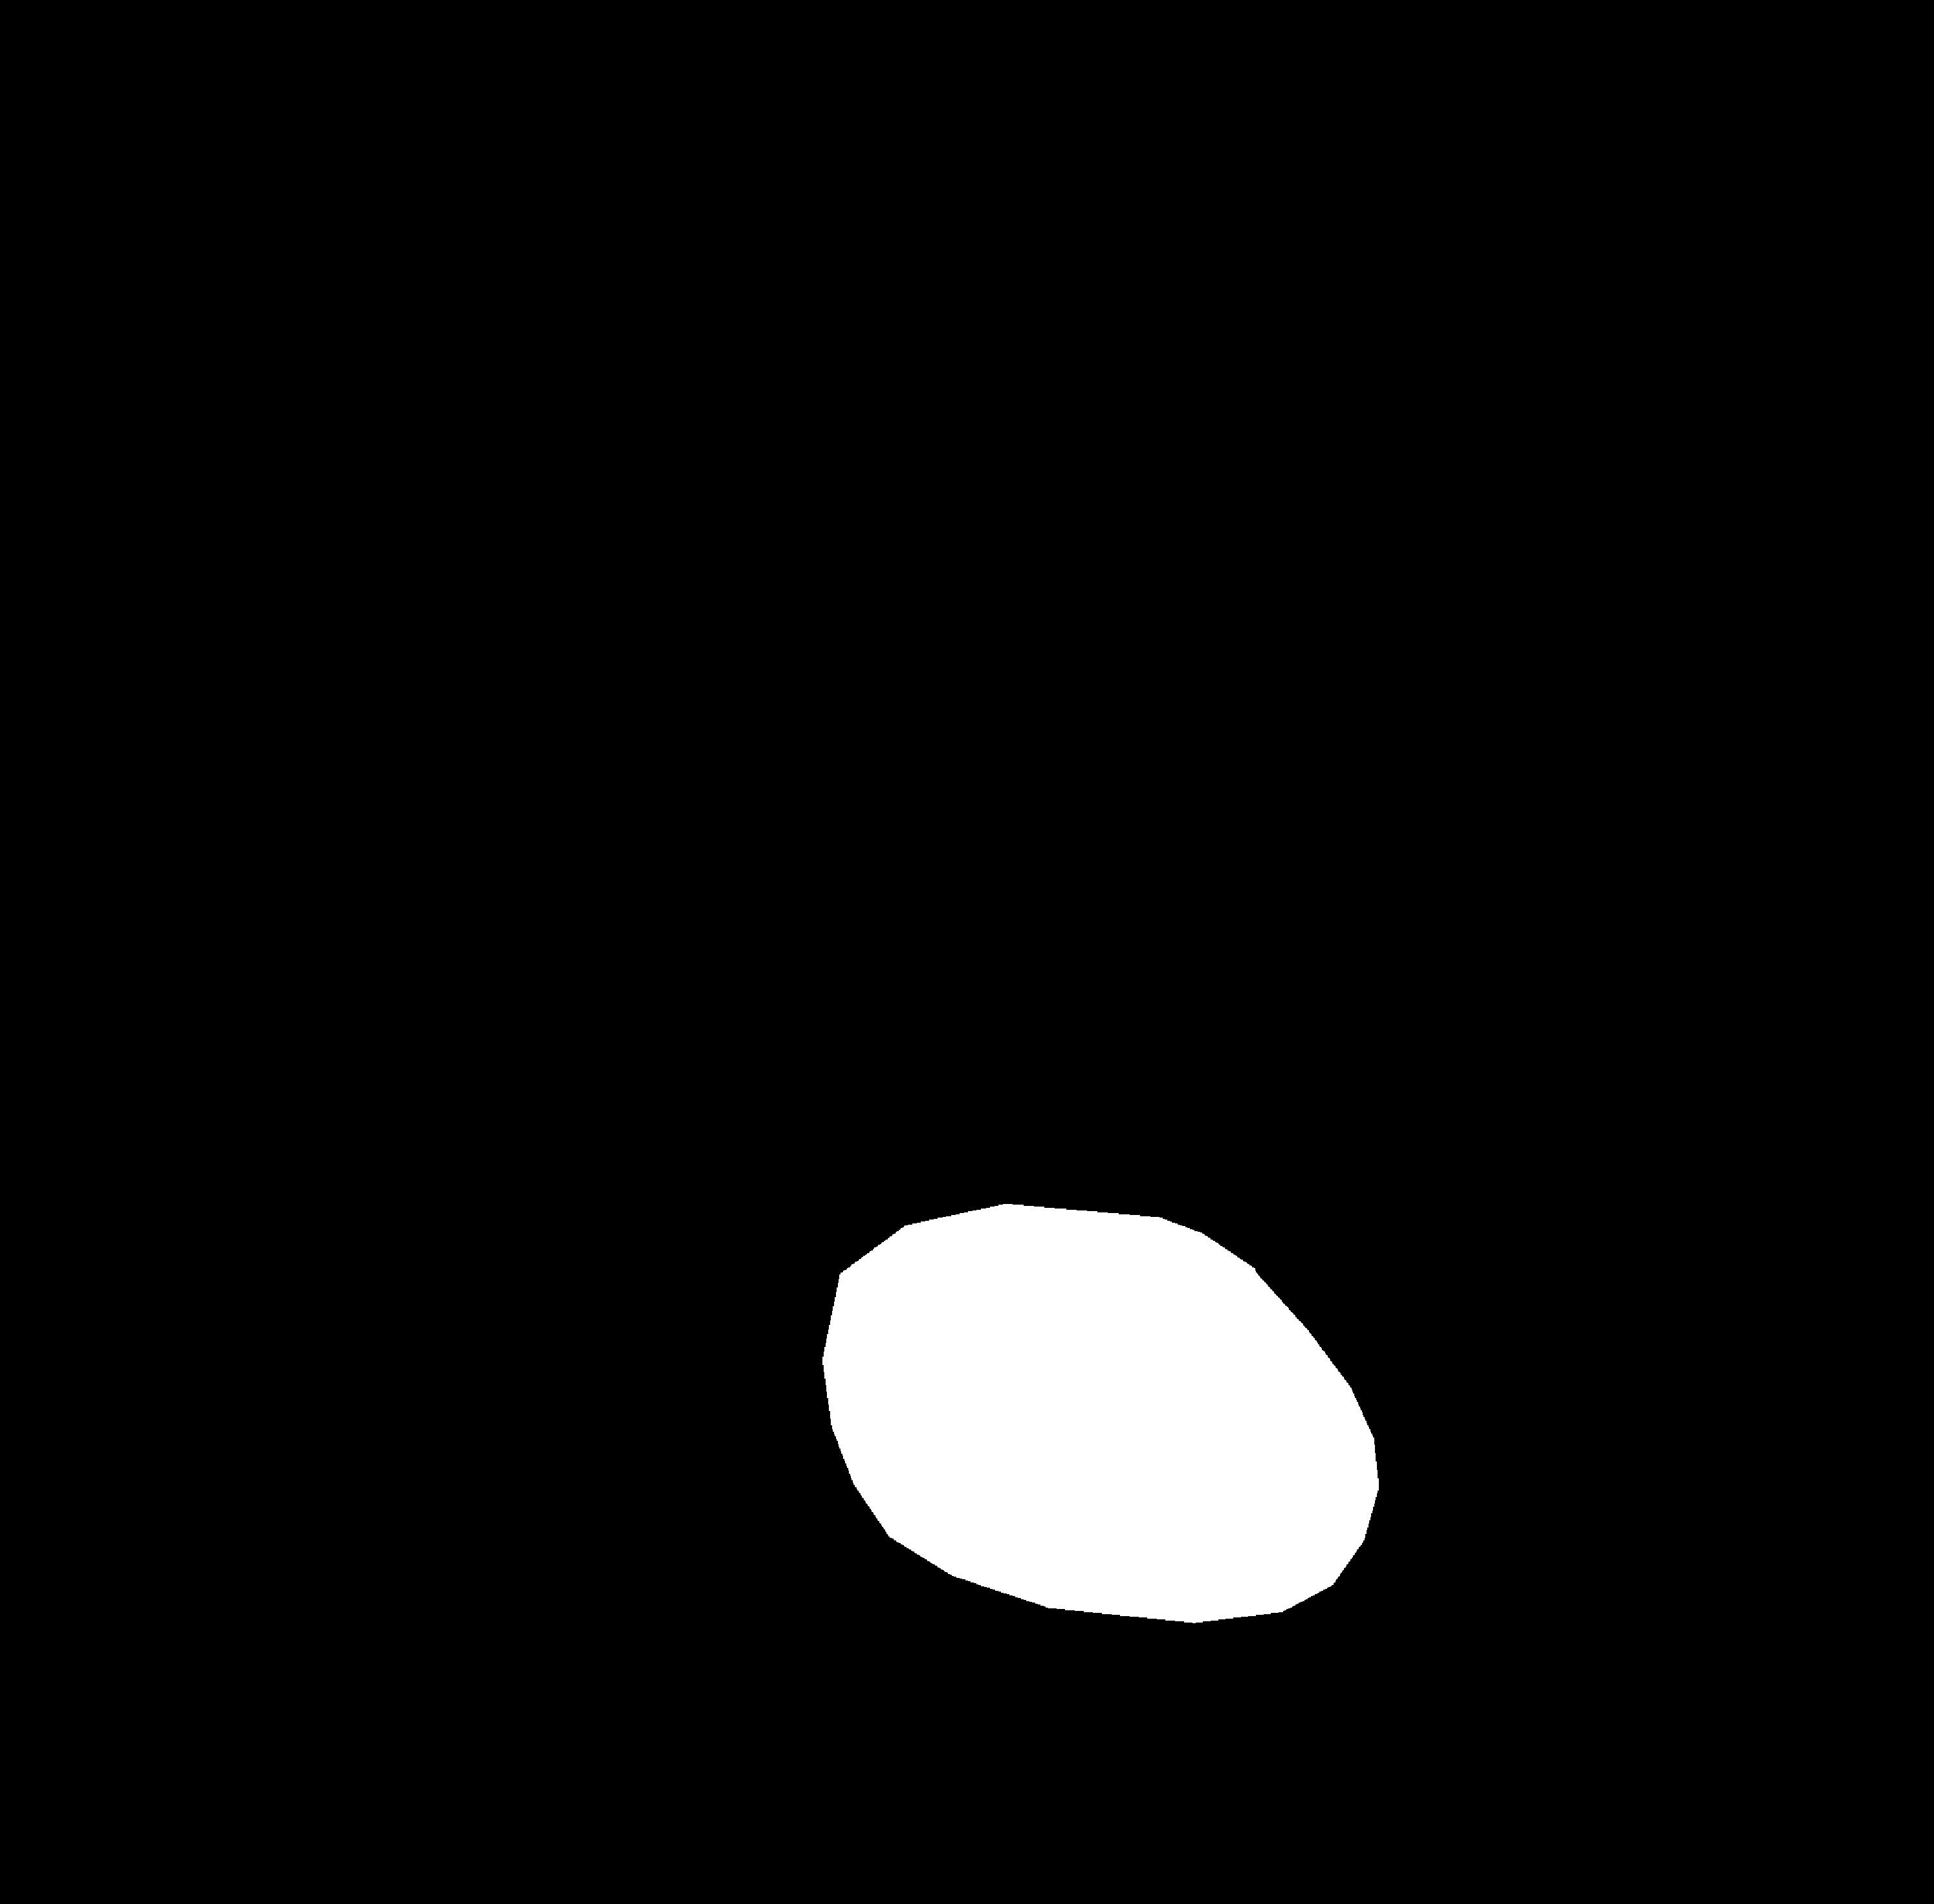heart: (841, 1313, 1390, 1679)
left_lung: (284, 391, 938, 1724)
right_lung: (1052, 398, 1634, 1785)
